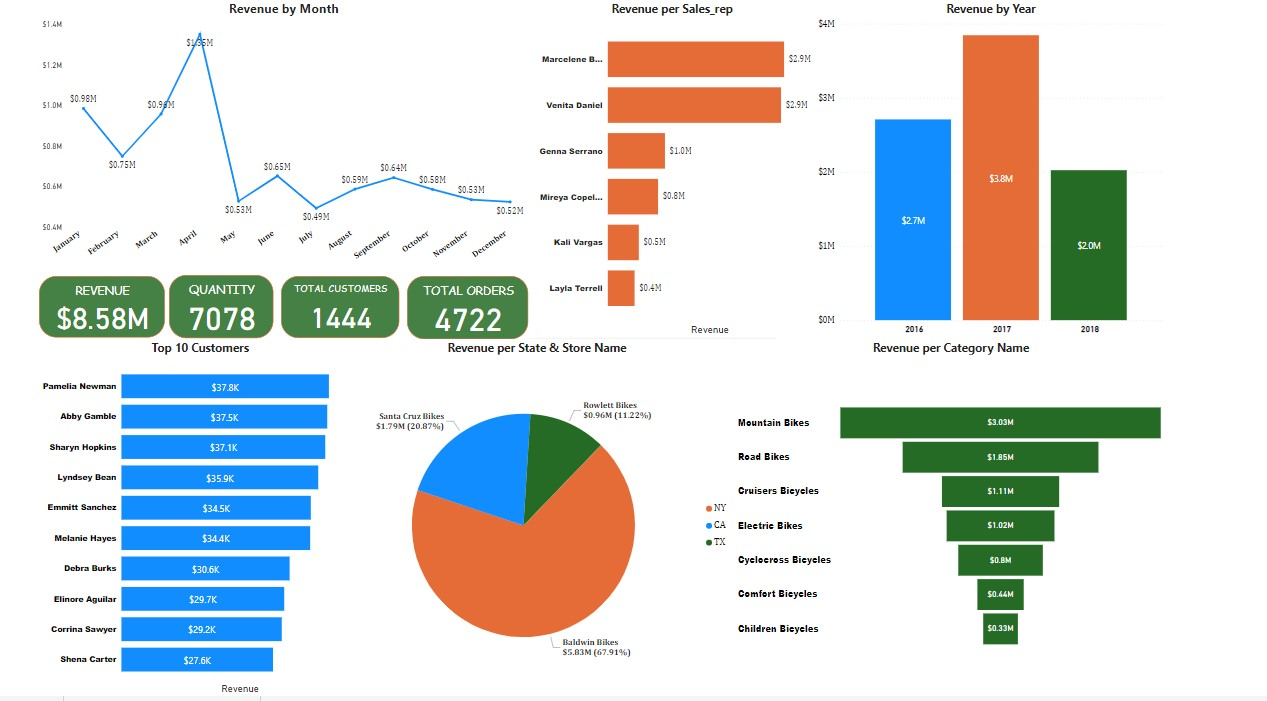

The page's visual inventory and layout, read from the dashboard file:
{"tool":"powerbi","page":{"name":"Page 1","canvas":[1960,1200],"ordinal":0},"visuals":[{"type":"lineChart","title":"Revenue by Month","fields":{"Category":["bikestore_dataset.order_date.Variation.Date Hierarchy.Month"],"Y":["Sum(bikestore_dataset.revenue)"]},"box":[0,0,844.4,466.7],"z":0},{"type":"card","title":"REVENUE","fields":{"Values":["Sum(bikestore_dataset.revenue)"]},"box":[0,476,216.7,105.6],"z":1},{"type":"card","title":"QUANTITY","fields":{"Values":["Sum(bikestore_dataset.quantity)"]},"box":[224.1,474.2,179.7,109.3],"z":2},{"type":"card","title":"TOTAL CUSTOMERS","fields":{"Values":["Count(bikestore_dataset.customer_name)"]},"box":[416.7,476,203.7,107.4],"z":3},{"type":"card","title":"TOTAL ORDERS","fields":{"Values":["CountNonNull(bikestore_dataset.order_id)"]},"box":[635.3,476,209.3,109.3],"z":4},{"type":"clusteredBarChart","title":"Revenue per Sales_rep","fields":{"Category":["Bikestores dataset.sales_rep"],"Y":["Sum(Bikestores dataset.revenue)"]},"box":[844.6,0,426,600.1],"z":5},{"type":"clusteredBarChart","title":"Revenue per Sales_rep","fields":{"Category":["bikestore_dataset.sales_rep"],"Y":["Sum(bikestore_dataset.revenue)"]},"box":[844.4,0,493.3,582.2],"z":6},{"type":"columnChart","title":"Revenue by Year","fields":{"Category":["bikestore_dataset.order_date.Variation.Date Hierarchy.Year"],"Y":["Sum(bikestore_dataset.revenue)"]},"box":[1337.8,0,606.7,582.2],"z":7},{"type":"clusteredBarChart","title":"Top 10 Customers","fields":{"Category":["bikestore_dataset.customer_name"],"Y":["Sum(bikestore_dataset.revenue)"]},"box":[0,584.4,555.6,615.6],"z":8},{"type":"pieChart","title":"Revenue per State & Store Name","fields":{"Y":["Sum(bikestore_dataset.revenue)"],"Series":["bikestore_dataset.store_name"],"Category":["bikestore_dataset.state"]},"box":[517.8,584.4,682.2,615.6],"z":9},{"type":"funnel","title":"Revenue per Category Name","fields":{"Category":["bikestore_dataset.category_name"],"Y":["Sum(bikestore_dataset.revenue)"]},"box":[1200,584.4,744.4,615.6],"z":10}]}

Visuals, with their boxes on the page's 1960x1200 design canvas (x1, y1, x2, y2). These are canvas units, not pixel positions in the 1267x701 screenshot, which may show the page scaled, cropped or inside an application window:
"Revenue by Month" lineChart: Rect(0, 0, 844, 467)
"REVENUE" card: Rect(0, 476, 217, 582)
"QUANTITY" card: Rect(224, 474, 404, 584)
"TOTAL CUSTOMERS" card: Rect(417, 476, 620, 583)
"TOTAL ORDERS" card: Rect(635, 476, 845, 585)
"Revenue per Sales_rep" clusteredBarChart: Rect(845, 0, 1271, 600)
"Revenue per Sales_rep" clusteredBarChart: Rect(844, 0, 1338, 582)
"Revenue by Year" columnChart: Rect(1338, 0, 1944, 582)
"Top 10 Customers" clusteredBarChart: Rect(0, 584, 556, 1200)
"Revenue per State & Store Name" pieChart: Rect(518, 584, 1200, 1200)
"Revenue per Category Name" funnel: Rect(1200, 584, 1944, 1200)
